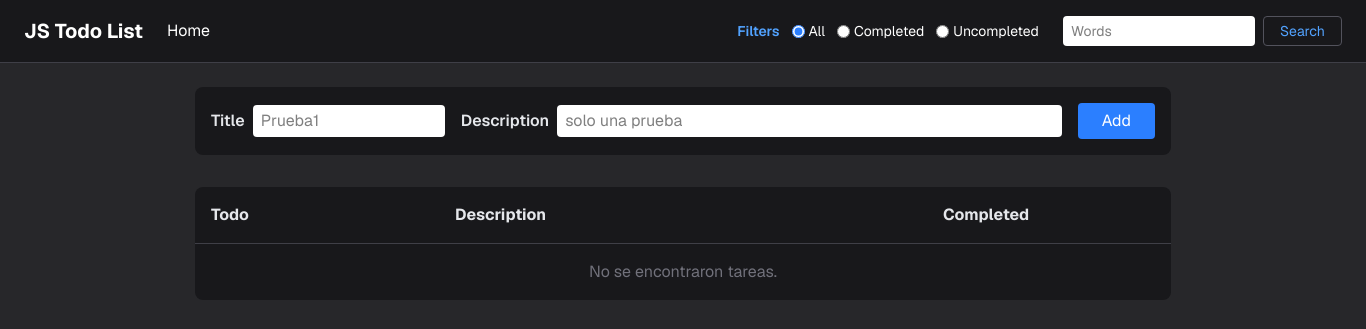
Scenario: Página Principal - Sprint 1 y 2 › permite eliminar una tarea
# Agregamos una tarea
Type "Tarea para borrar" into the field with placeholder "Prueba1" at (349, 121), box [253, 105, 445, 137]
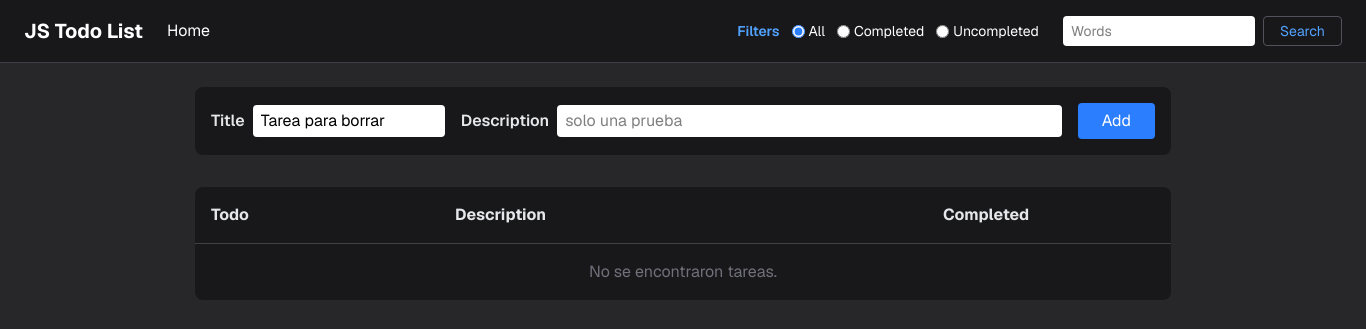
Click the button "Add" at (1116, 121), box [1078, 103, 1155, 139]
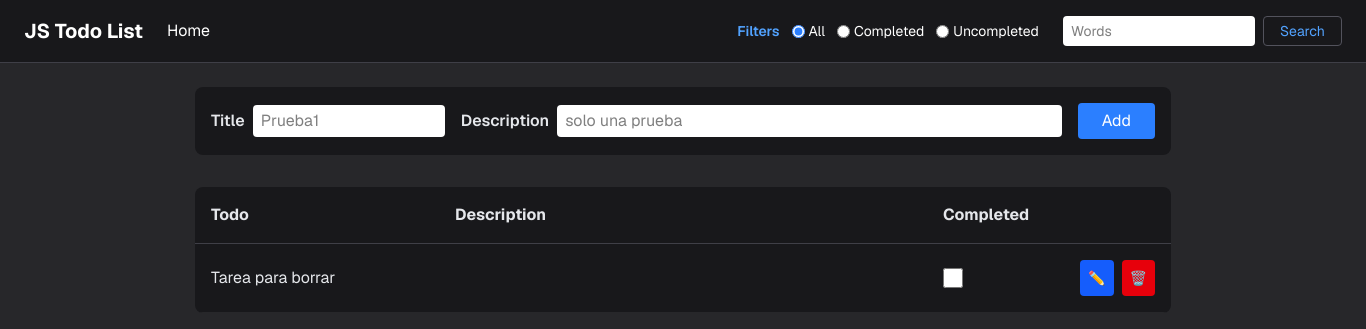
Expected: the text "Tarea para borrar" is shown, [195, 244, 439, 312]
# Buscamos el botón de eliminar y hacemos clic
Click the button "🗑️" at (1138, 278), box [1122, 260, 1155, 296]
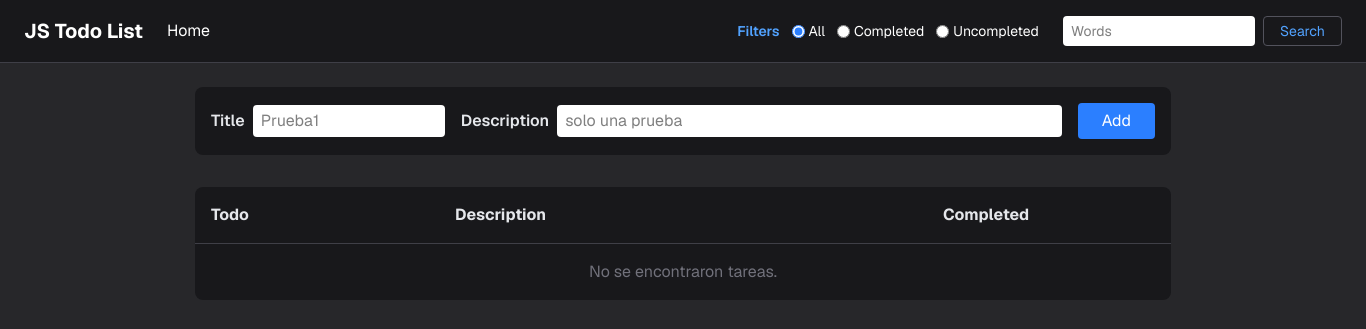
Expected: the text "Tarea para borrar" is gone
